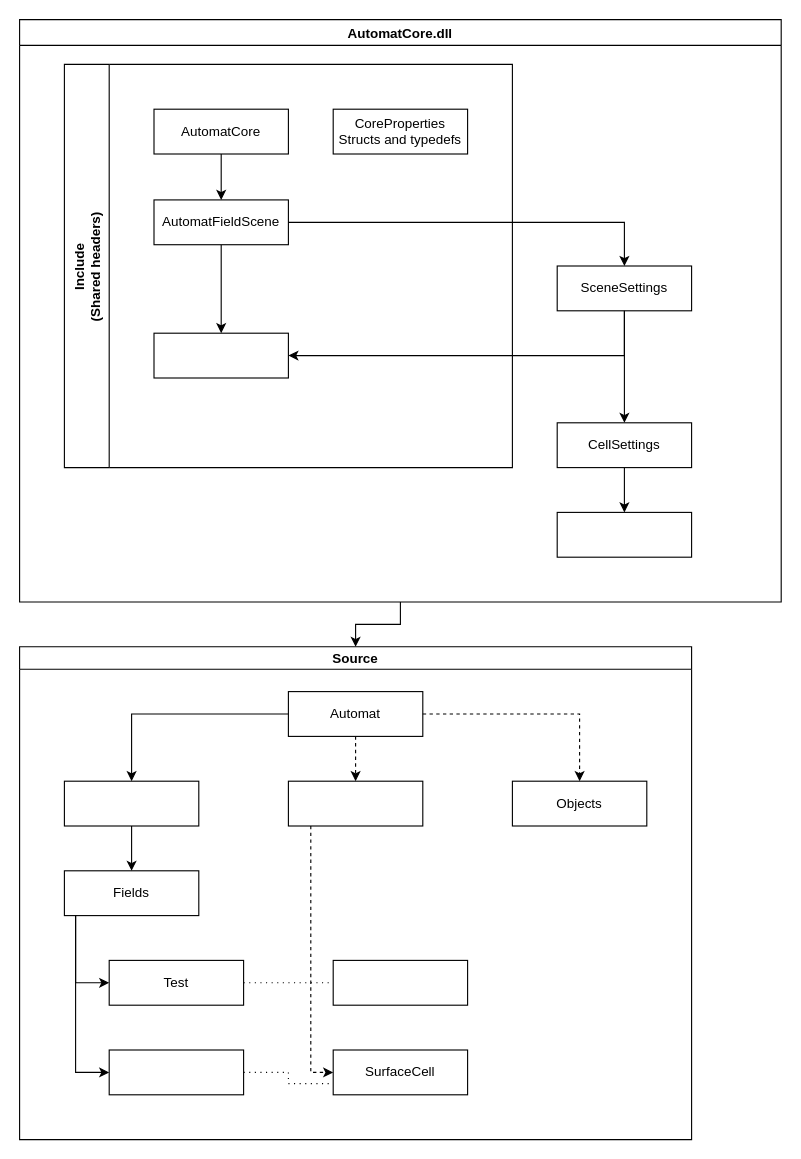
The diagram is 801 pixels wide and 1159 high, and some of its shapes have lost their labels. The shapes that lost their labels are listed below. From the top down, each one's centre as x and y in pixels, then its label:
At (220,355): "GraphicCell".
At (624,534): "ColorLimits".
At (131,803): "FieldsManager".
At (355,803): "Cells".
At (400,982): "int".
At (176,1072): "Square".
